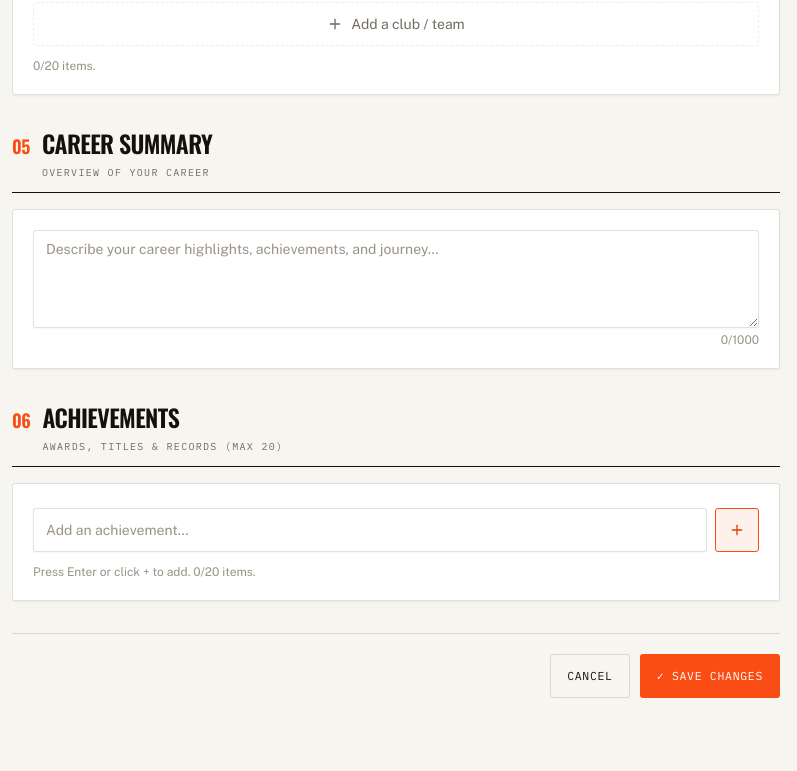
Test: EditProfile achievements › typing + pressing Enter adds an achievement to the list
(page scrolled)
Expected: the text "Press Enter or click + to add. 0/20 items." is shown, [33,565,256,579]
In the field with placeholder "Add an achievement…": (370, 530) [33,508,707,552], type "Man of the Match"
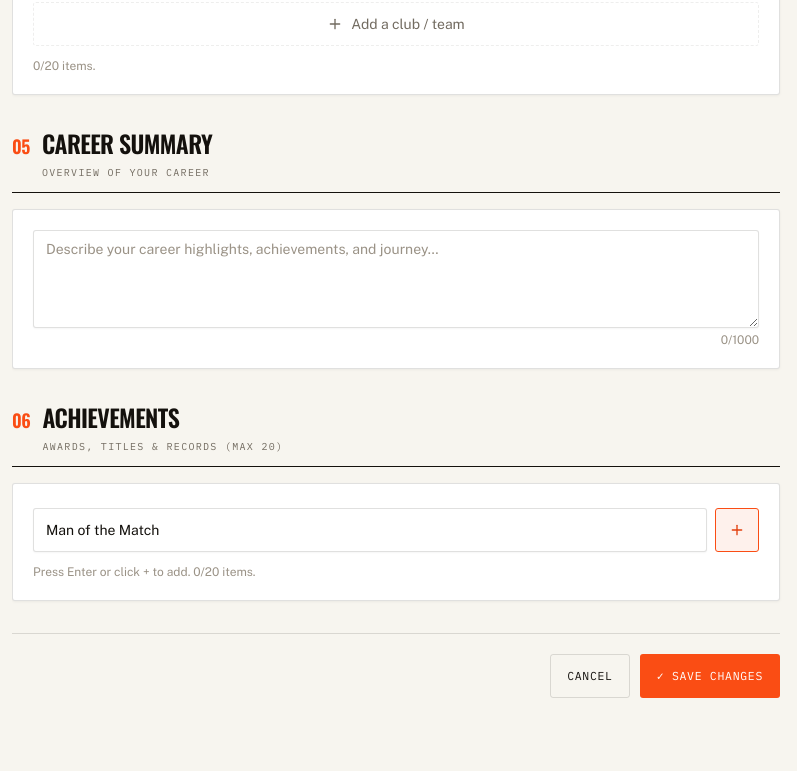
Press Enter in the field with placeholder "Add an achievement…", box [33,508,707,552]
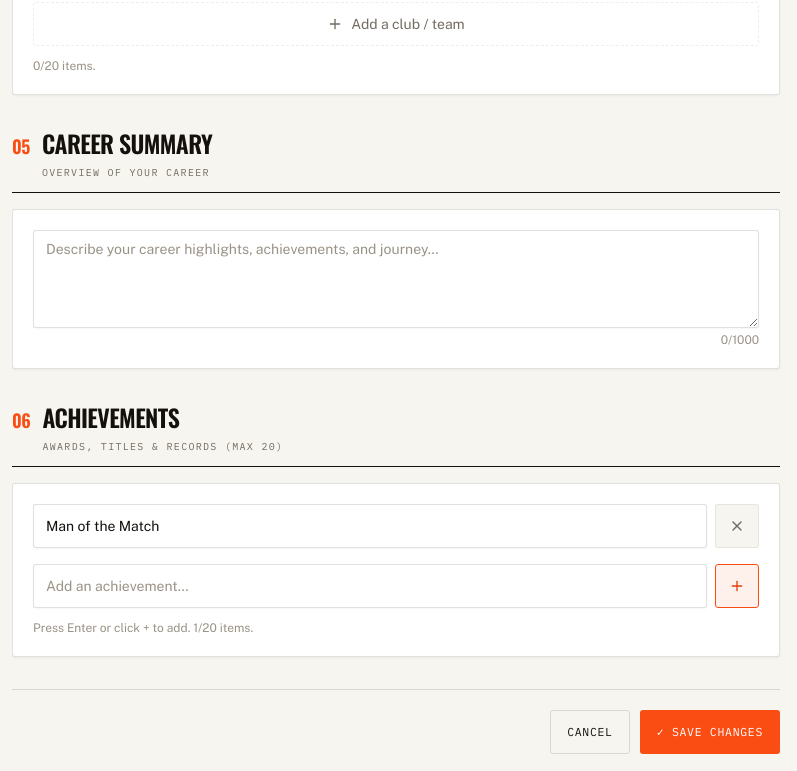
Expected: the text "Press Enter or click + to add. 1/20 items." is shown, [33,621,253,635]
Expected: the field showing "Man of the Match" is shown, [33,504,707,548]
